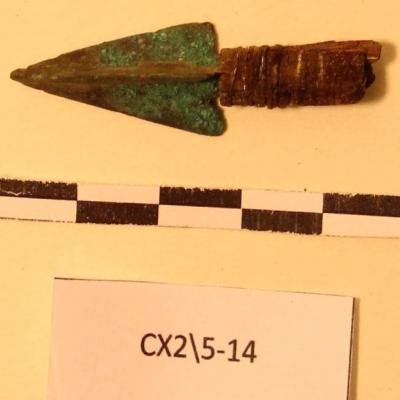archeology: (10, 22, 377, 137)
